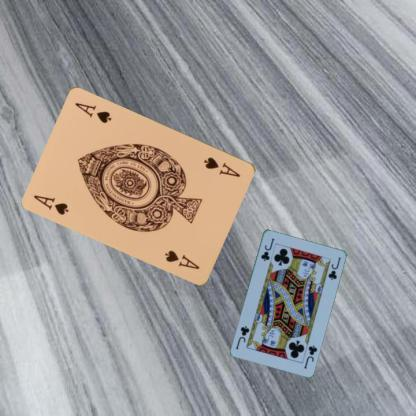As: (201, 154, 242, 178), (31, 192, 70, 216)
Jc: (300, 342, 318, 370), (258, 236, 275, 262)
